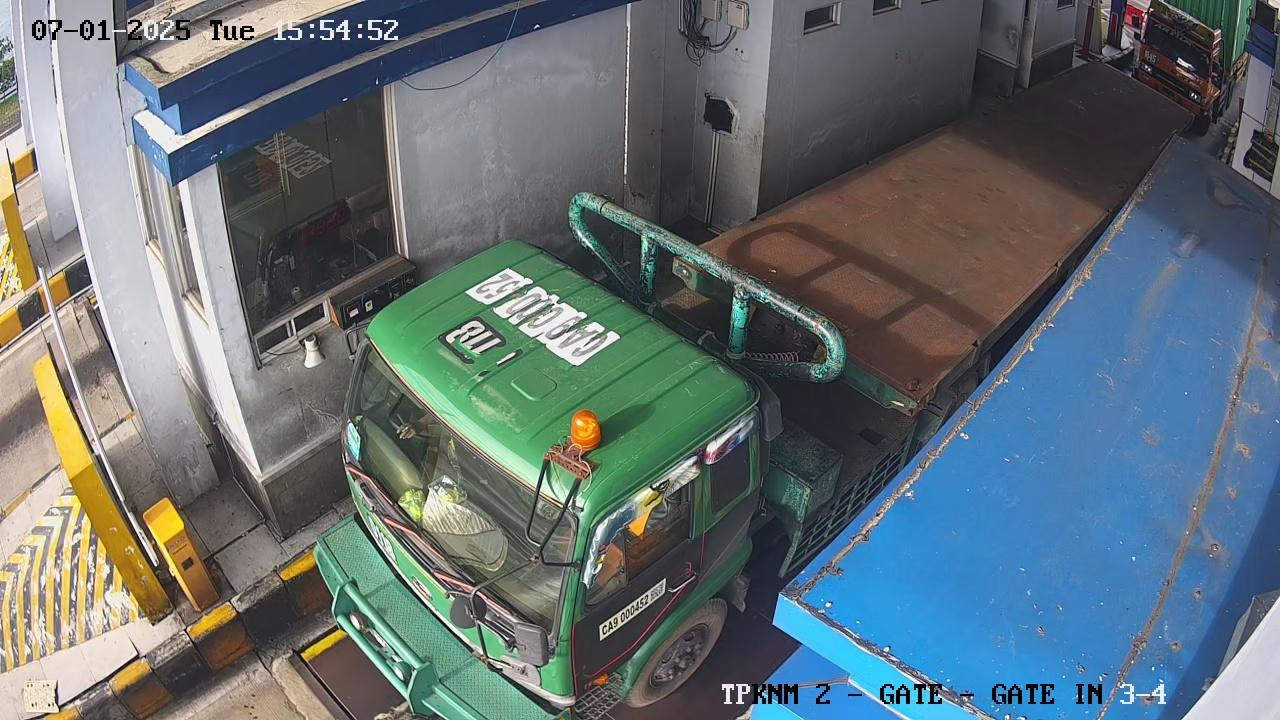truck_id: (423, 263, 635, 418), (598, 569, 692, 641)
